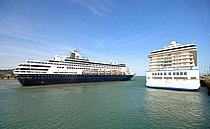Ship: (9, 45, 140, 91), (144, 40, 208, 95)
